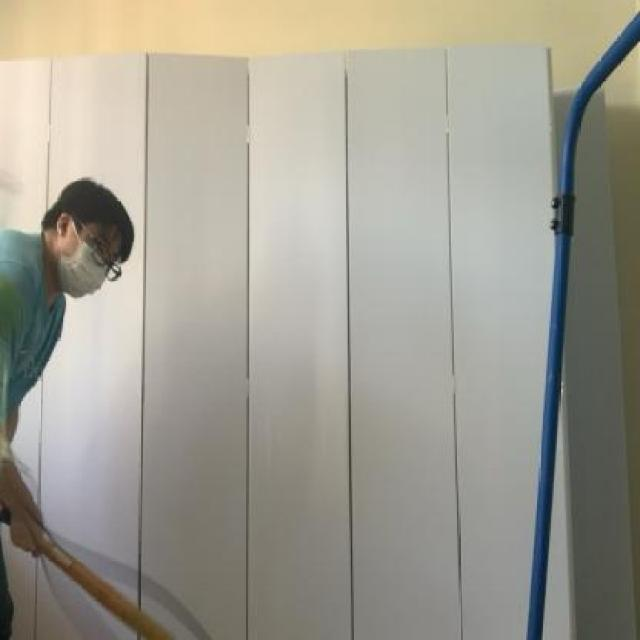baseball: (0, 272, 34, 348)
